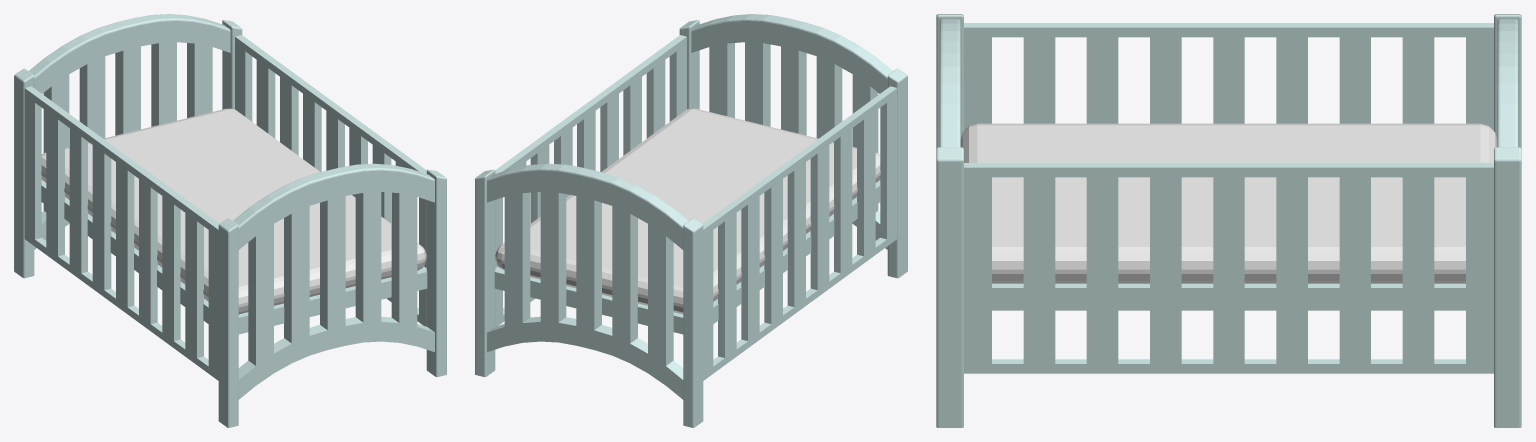
Rendered from Baby bed.fbx.
The picture shows the model from 3 angles, left to right: view 1: azimuth 30°, elevation 25°; view 2: azimuth 150°, elevation 25°; view 3: azimuth 270°, elevation 25°; orthographic projection. The views are drawn at different scales.
Parts seen in each view (by area): view 1: Baby bed; view 2: Baby bed; view 3: Baby bed.
Part boxes in pixels (<box>): Baby bed: <box>14,14,446,427</box>; Baby bed: <box>475,14,907,427</box>; Baby bed: <box>936,14,1521,427</box>.
Bounding box in the file's own units: 194 × 191 × 329.
